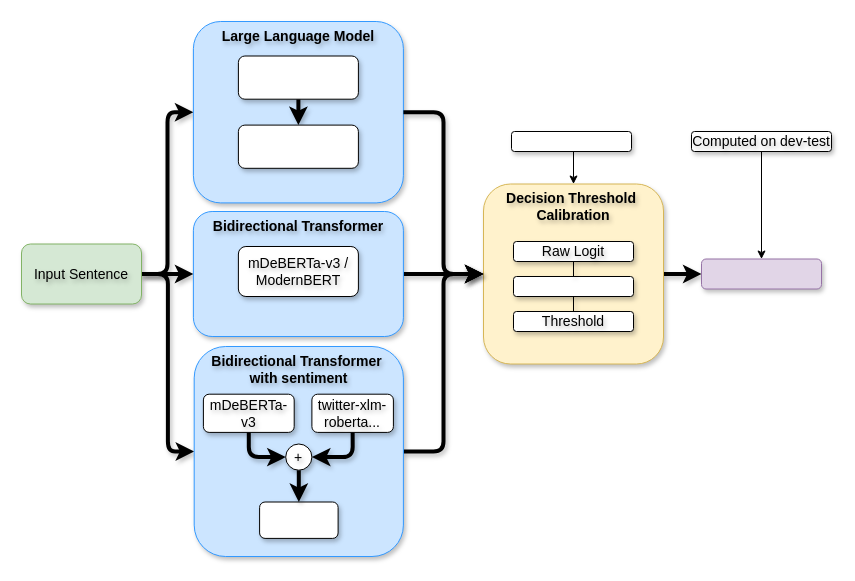
This 855x581 diagram has some shape labels left out. Each missing label, with the centre of its shape:
"Classification Head" goes at pixel 298 147.
"Classifier" goes at pixel 299 521.
"Final predictions" goes at pixel 762 275.
"LLM" goes at pixel 298 78.
"Optimized on dev" goes at pixel 572 142.
"Softmax" goes at pixel 574 288.
